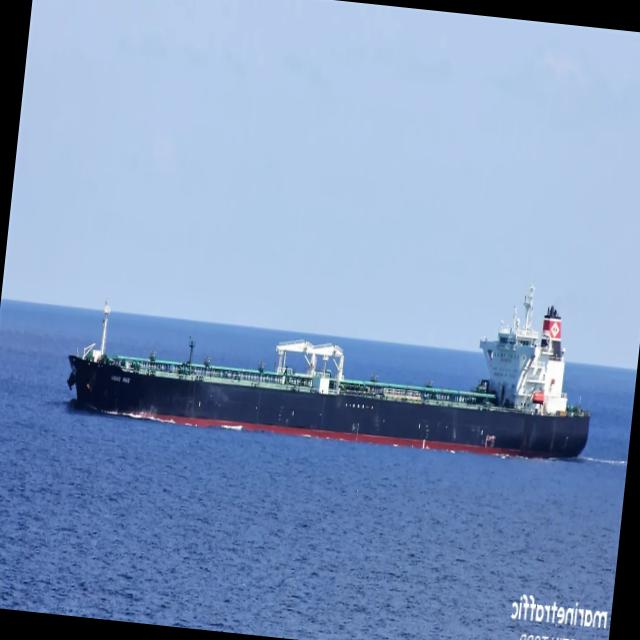Tanker: (67, 287, 590, 457)
